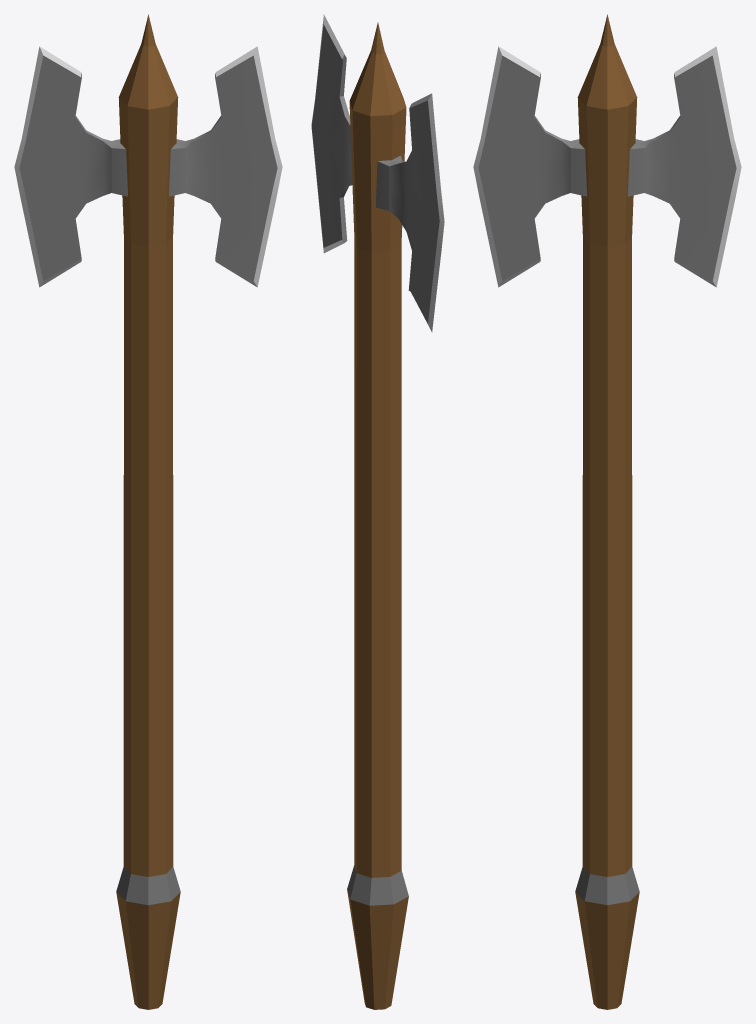
The model's file is Axe34.glb.
The picture shows the model from 3 angles, left to right: view 1: azimuth 90°, elevation 25°; view 2: azimuth 210°, elevation 25°; view 3: azimuth 270°, elevation 25°; orthographic projection.
Parts seen in each view (by area): view 1: weapon_generator; view 2: weapon_generator; view 3: weapon_generator.
Part boxes in pixels (x1,y1,x2,y2): weapon_generator: (14,14,282,1009); weapon_generator: (311,14,444,1009); weapon_generator: (473,14,741,1009).
Bounding box in the file's own units: 0.0681 × 1.15 × 0.2829.
